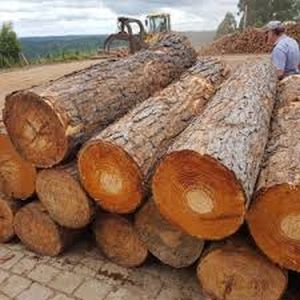log: (146, 139, 253, 247), (74, 133, 146, 216), (2, 89, 73, 169), (198, 248, 291, 300), (250, 182, 300, 267), (33, 168, 94, 234), (13, 202, 66, 265), (90, 212, 148, 269)
